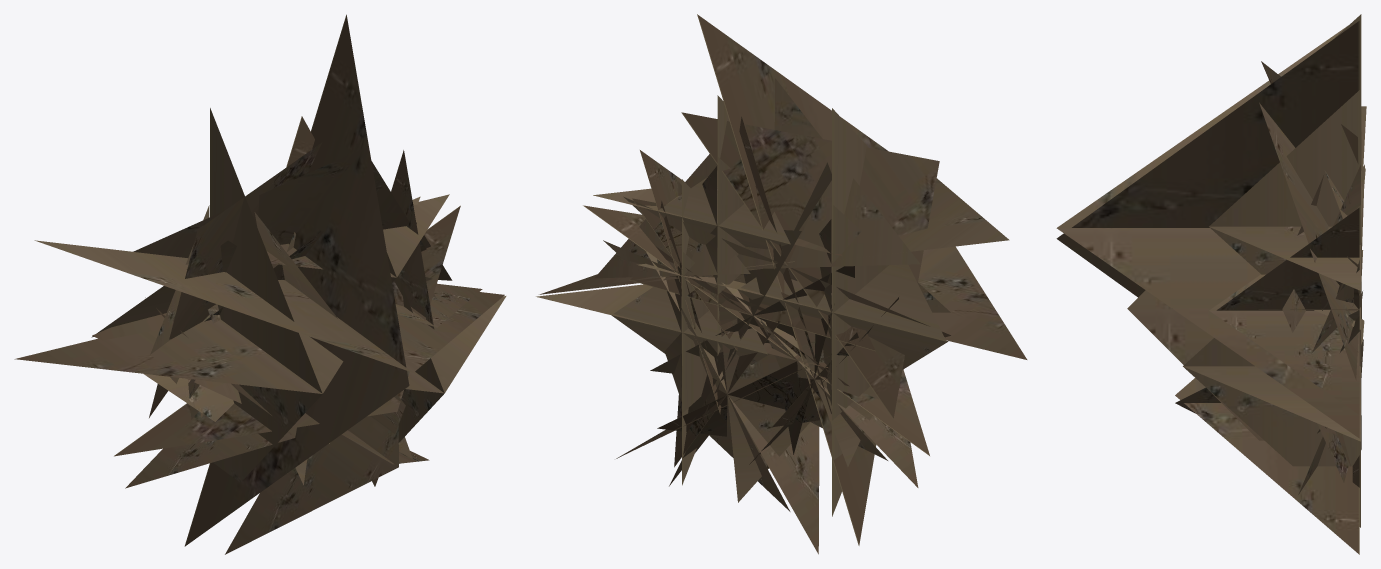
The model's file is grasstuftgroup_test.glb.
3 views of the same model, side by side, from view 1: azimuth 30°, elevation 25°; view 2: azimuth 150°, elevation 25°; view 3: azimuth 270°, elevation 25° (orthographic). The views are drawn at different scales.
Bounding box in the file's own units: 92.5 × 91.76 × 47.91.
Materials: 1 (1 with a texture image).
